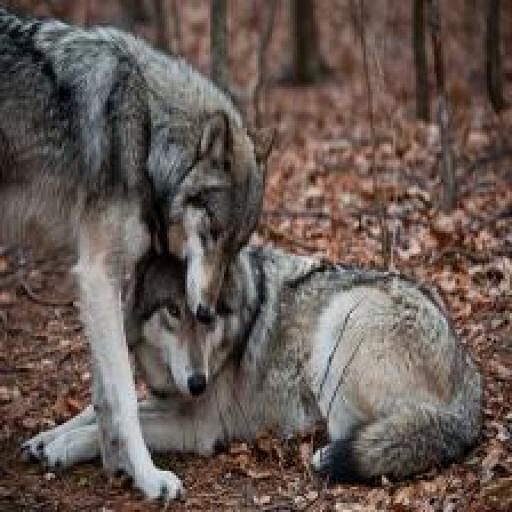wolf: (121, 233, 501, 473), (0, 13, 283, 333)
